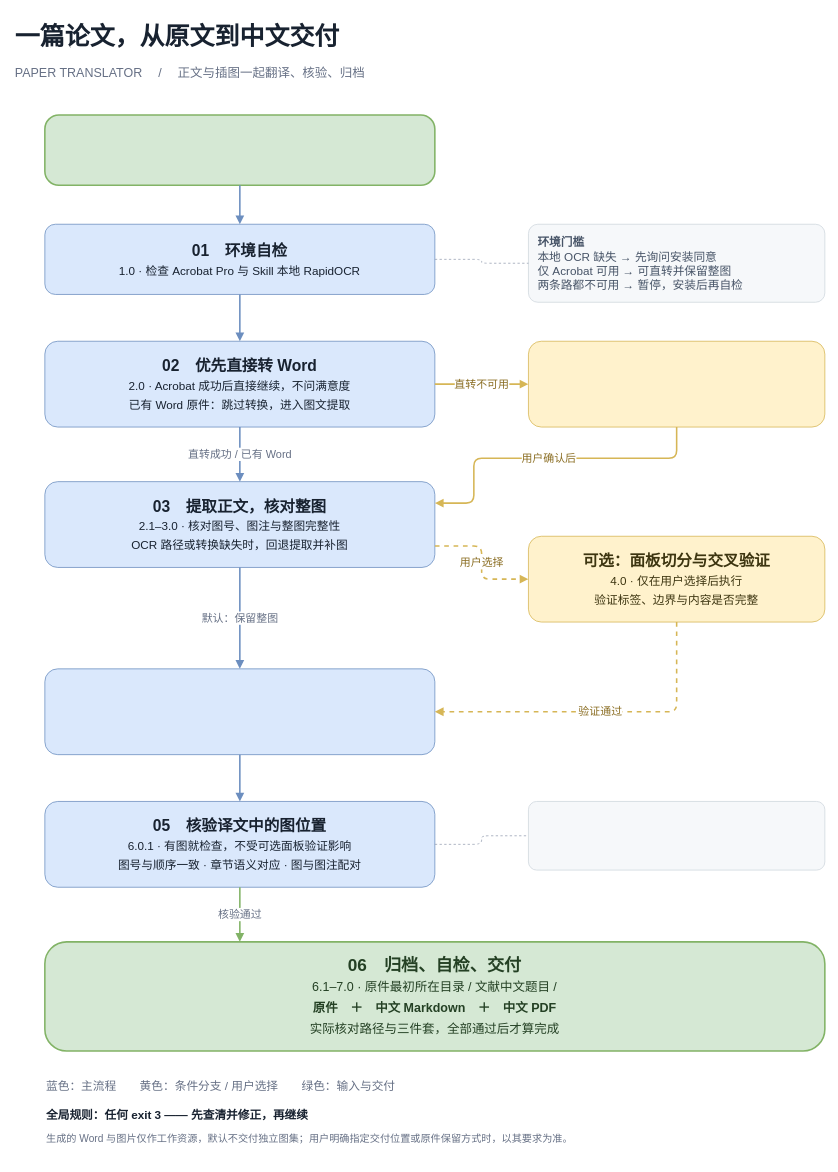
This 838x1172 diagram has some shape labels left out. The shapes that lost their labels are listed below. From the top down, each one's centre as x and y in pixels, then its label:
At [239,150]: "输入论文 PDF / Word 记录原件最初位置，建立独立工作目录".
At [676,383]: "RapidOCR 重建 Word 2.2 · 展示预览，请用户确认质量 未确认或不满意：暂停处理".
At [239,711]: "04 翻译与排版 5.0–6.0 · 翻译正文与图注 → 写 Markdown 插图归位 → 加目录 → 内嵌图片 → 导出 PDF".
At [676,835]: "核验上下文，不要求页码相同 支持视觉时，渲染双方页面逐图比对 未做视觉核验时，交付说明中明确标注".
